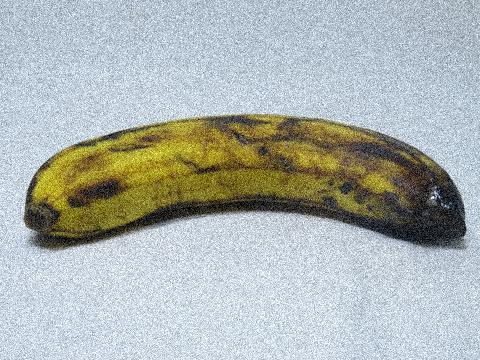overripe: (16, 93, 479, 280)
rotten: (287, 130, 468, 264)
